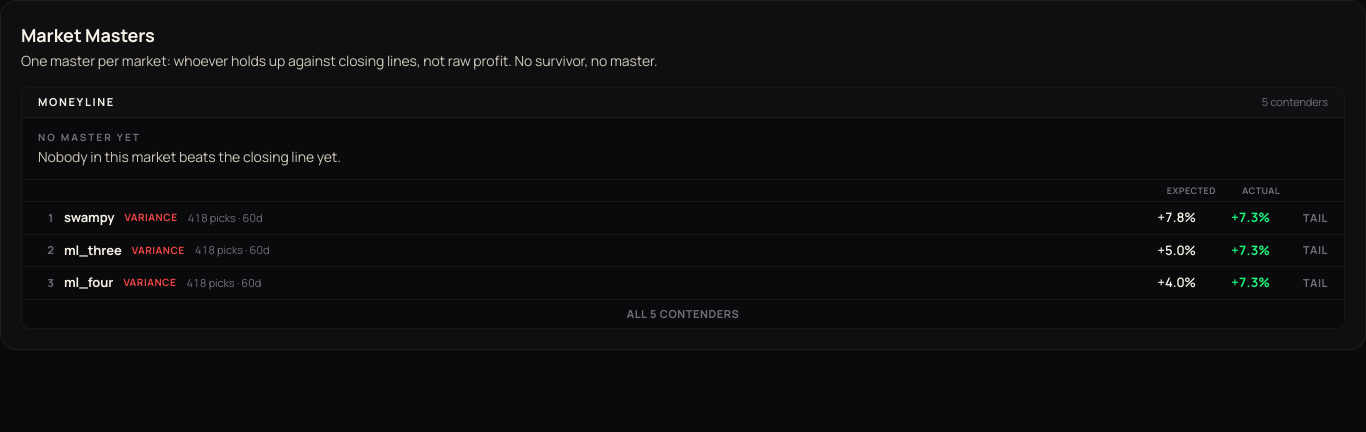
it: MarketRankings market masters › collapses contenders to three and expands on demand
Expected: the link "swampy" is shown, left=64, top=208, right=114, bottom=228
Expected: the link "ml_four" is shown, left=64, top=273, right=113, bottom=292
Click the button "All 5 contenders".
click(683, 313)  # box left=22, top=298, right=1344, bottom=328
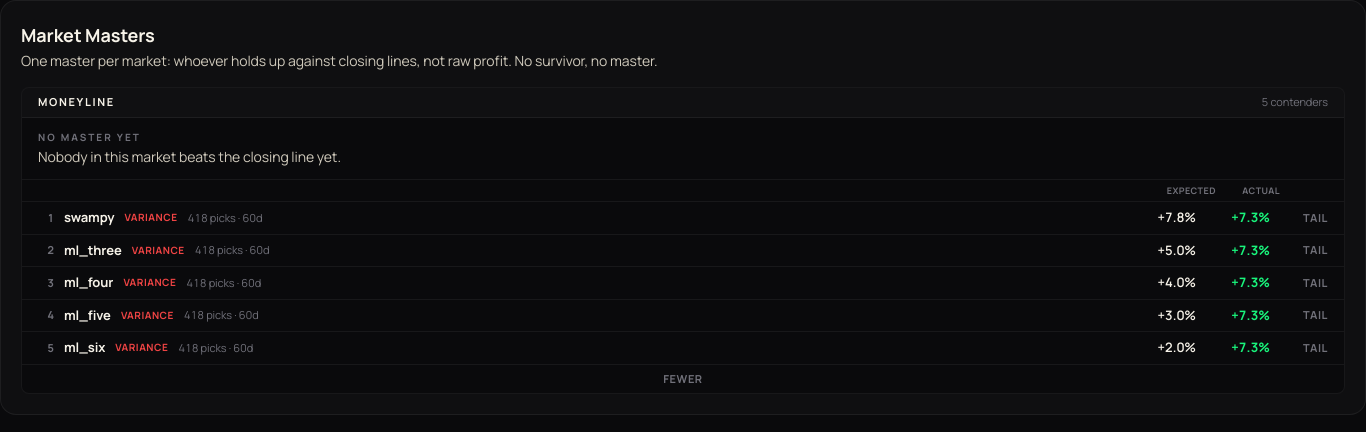
Expected: the link "ml_six" is shown, left=64, top=338, right=105, bottom=358
Click the button "Fewer".
click(683, 378)  # box left=22, top=364, right=1344, bottom=393
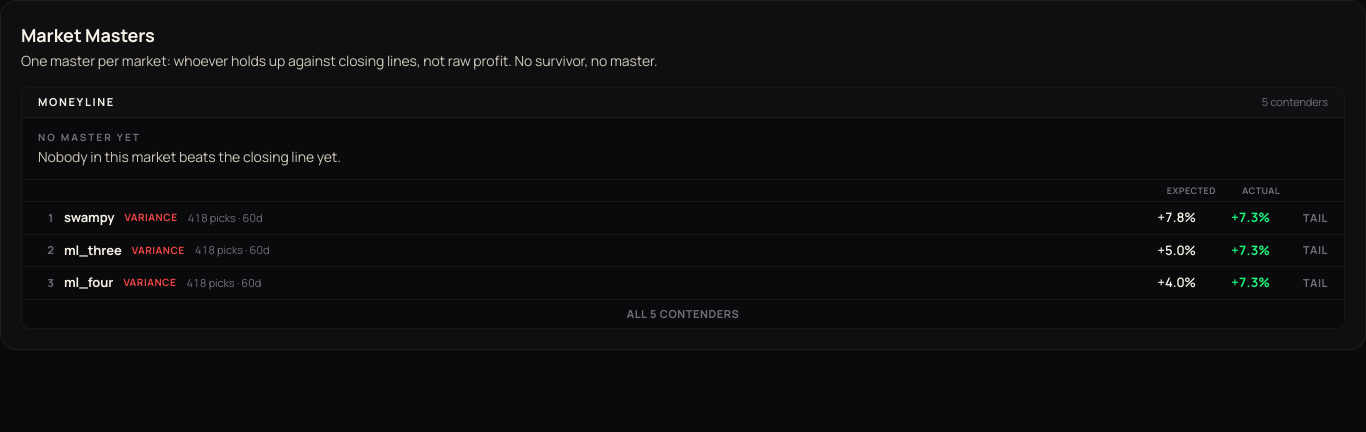
Expected: the link "ml_six" is gone
